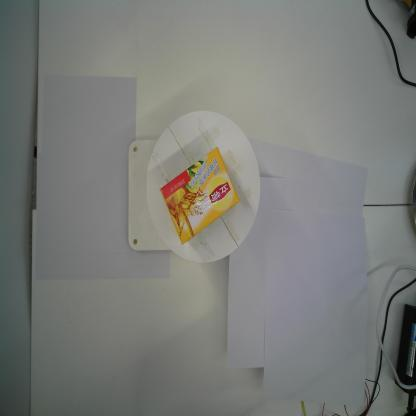Instant Drink: (160, 146, 241, 246)
